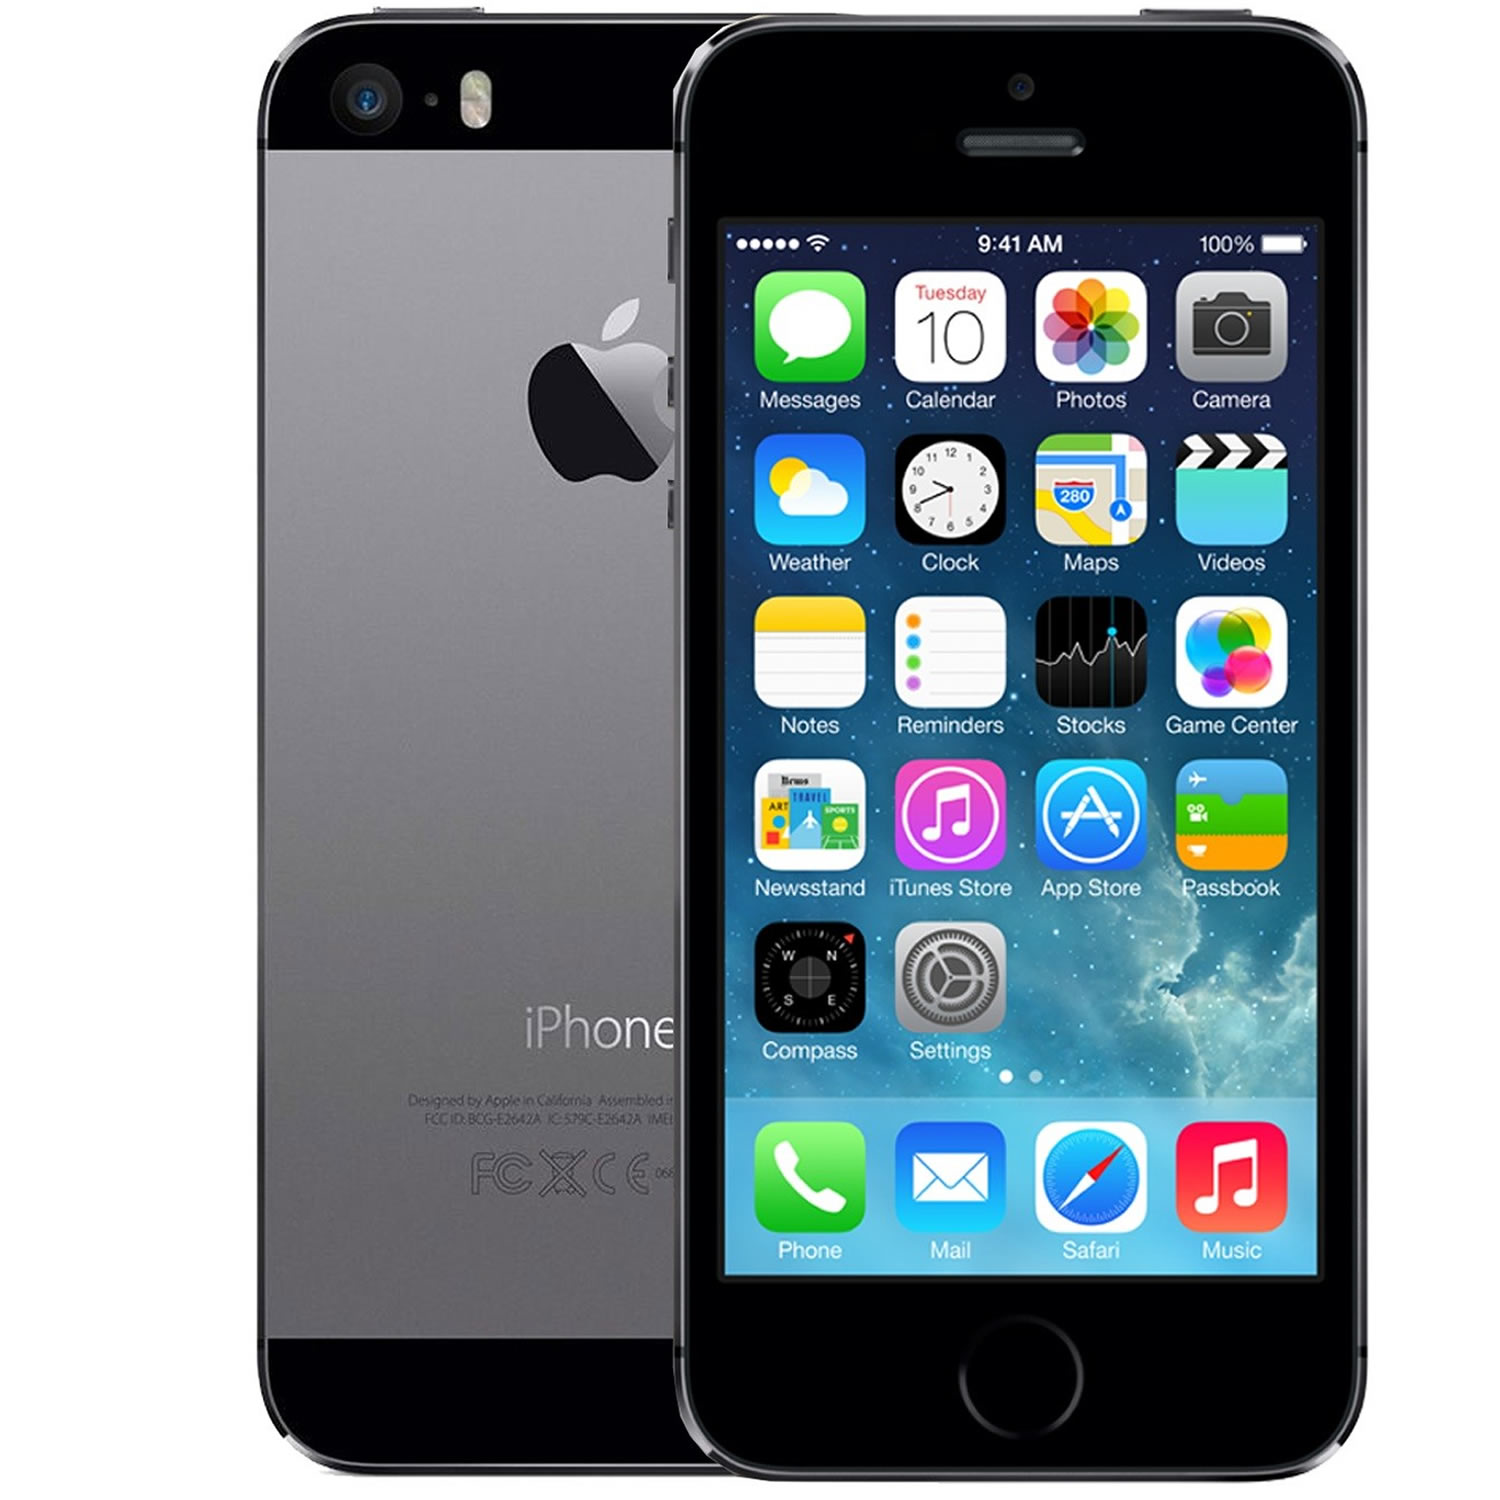smartphone: (668, 5, 1370, 1482), (254, 7, 758, 1475)
